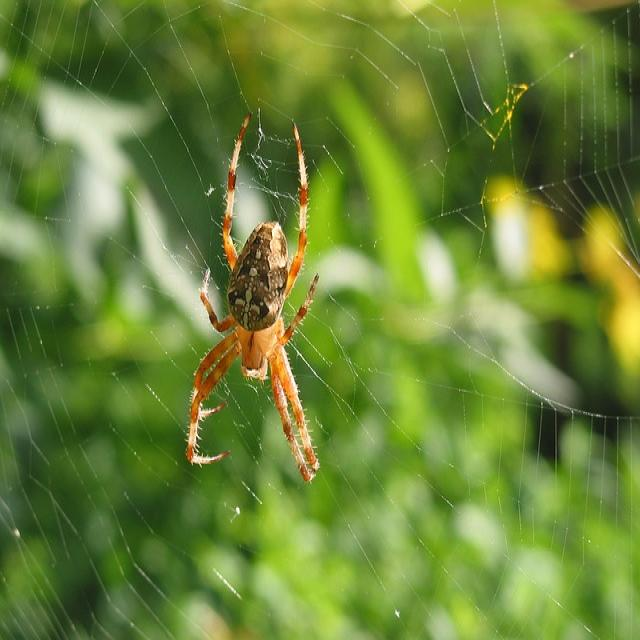spyder: (185, 112, 320, 484)
